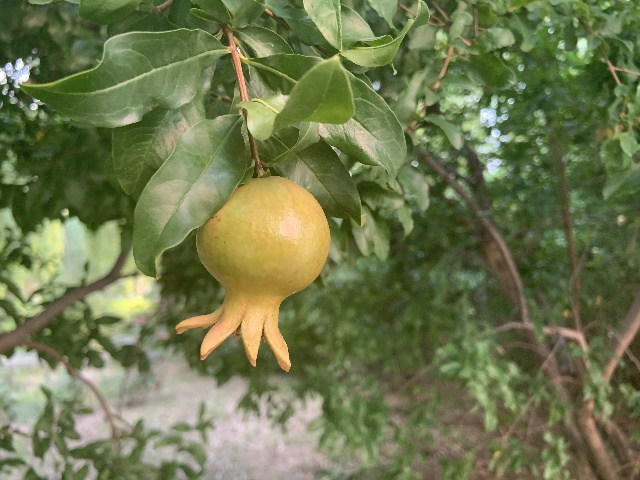early-fruit: (173, 176, 330, 372)
